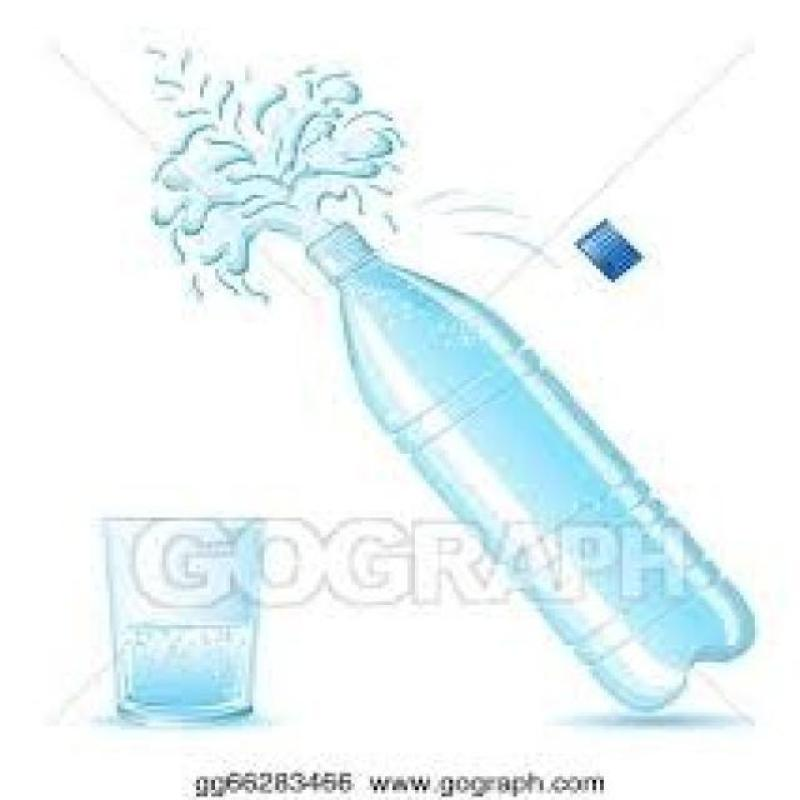botella: (312, 222, 756, 713)
